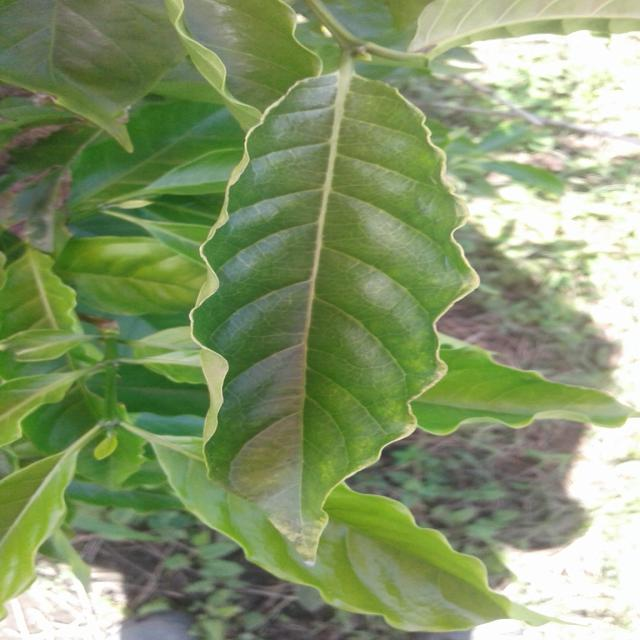Enfermedad-Roya: (193, 70, 481, 568)
